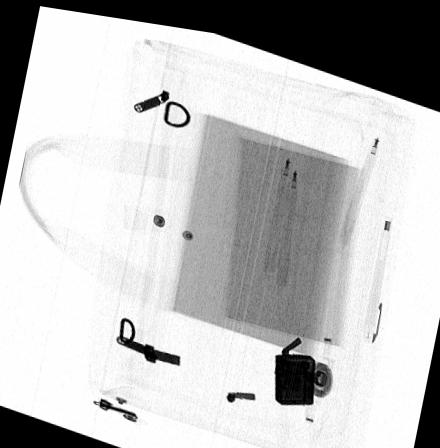Lighter: (273, 342, 316, 396)
